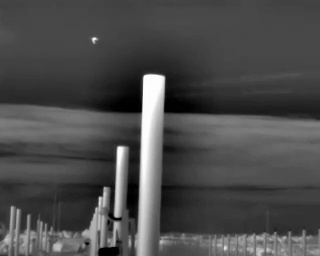BIRD: (89, 34, 100, 47)
